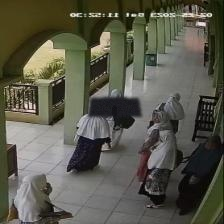Cadar_Niqab: (88, 88, 141, 116)
